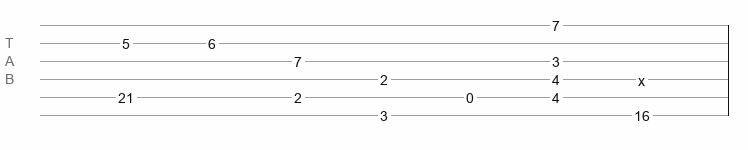0: (466, 90, 474, 100)
16: (634, 108, 650, 118)
2: (294, 90, 302, 100), (380, 72, 388, 82)
21: (118, 90, 134, 100)
3: (380, 108, 388, 118), (552, 54, 560, 64)
4: (552, 90, 560, 100), (552, 72, 560, 82)
5: (122, 36, 130, 46)
6: (208, 36, 216, 46)
7: (294, 54, 302, 64), (552, 18, 560, 28)
x: (638, 73, 645, 81)
